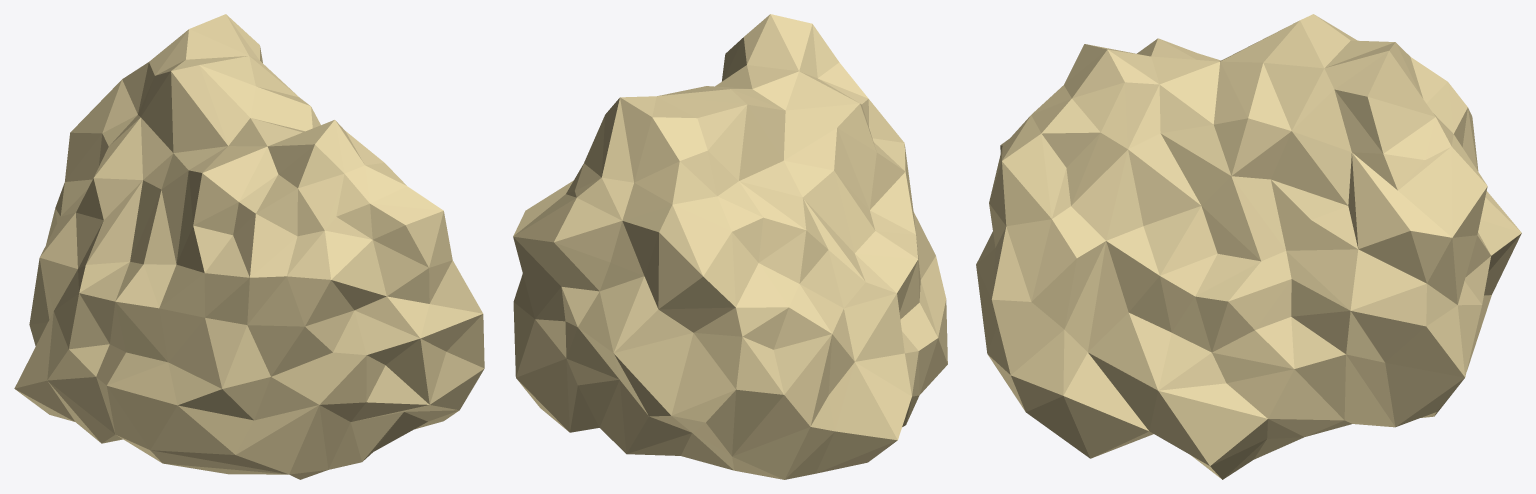
The model's file is Asteroid (23).fbx.
3 renders of one model, left to right at view 1: azimuth 30°, elevation 25°; view 2: azimuth 150°, elevation 25°; view 3: azimuth 270°, elevation 25°, orthographic. The views are drawn at different scales.
Visible parts, largest first — view 1: Asteroid161; view 2: Asteroid161; view 3: Asteroid161.
Part boxes in pixels (x1,y1,x2,y2): Asteroid161: (14,14,484,479); Asteroid161: (513,14,947,479); Asteroid161: (976,14,1521,479).
Bounding box in the file's own units: 444 × 402 × 521.
